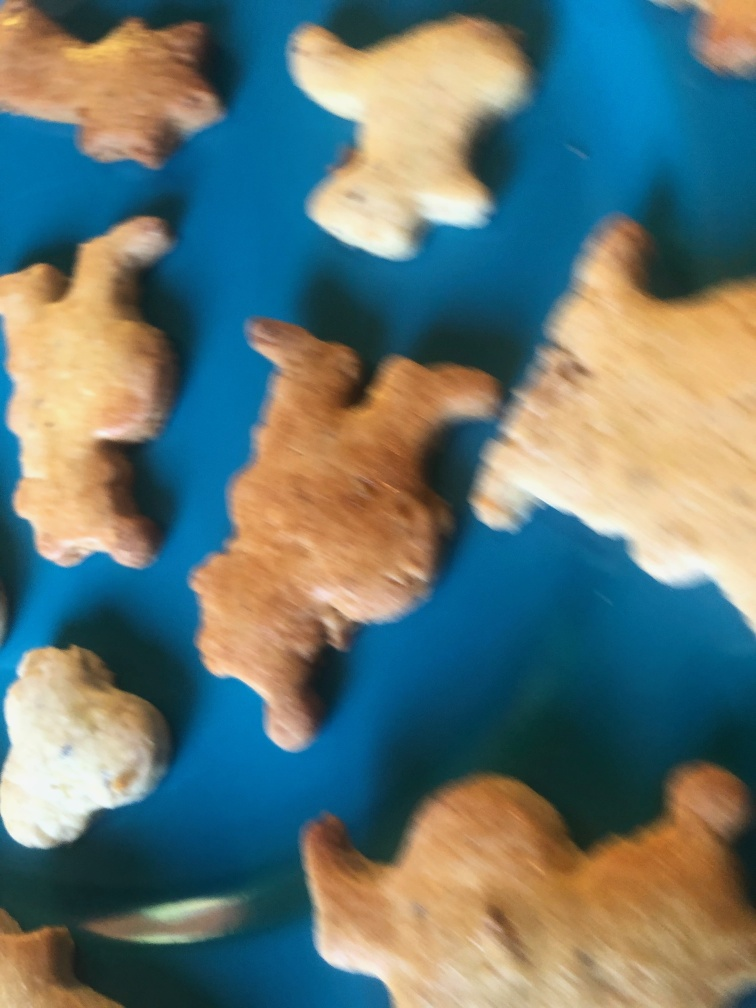flake: (1, 640, 175, 851)
santa claus: (185, 315, 501, 756), (300, 756, 756, 1006), (1, 214, 179, 577)
shooting star: (1, 1, 228, 173)
squirrel: (283, 10, 536, 268)
